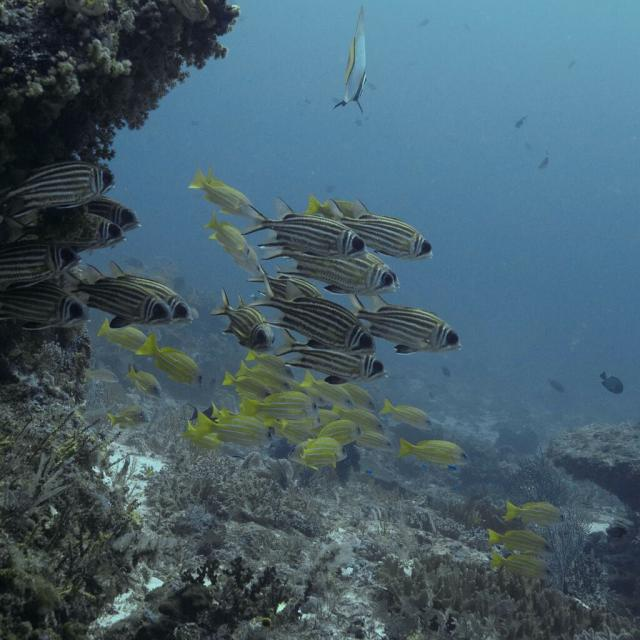Asker Baligi: (255, 269, 383, 360), (237, 192, 369, 268), (351, 290, 476, 362), (62, 258, 177, 336), (0, 150, 123, 218)
